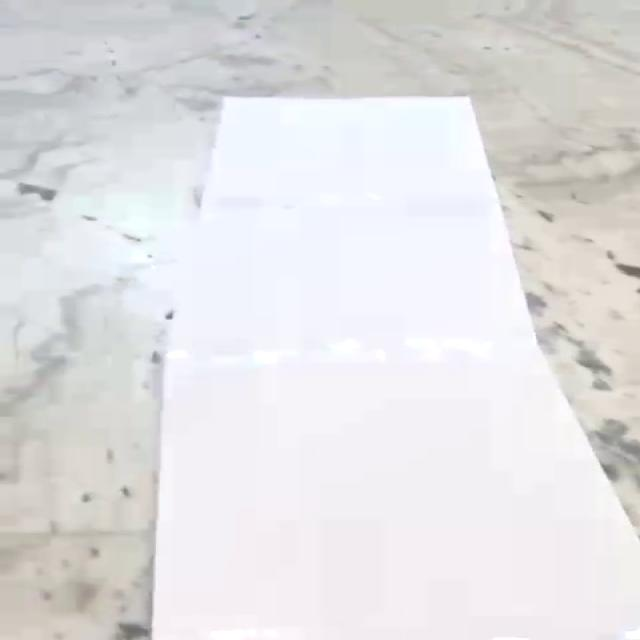road: (151, 94, 640, 640)
